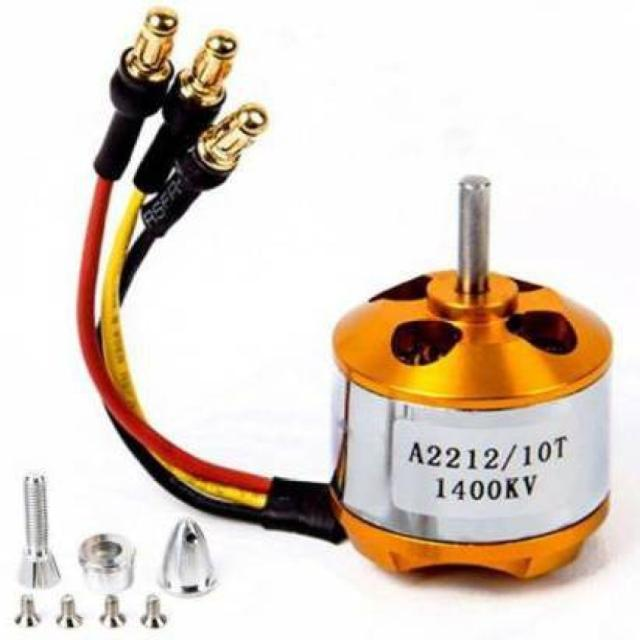motor: (300, 135, 625, 622)
